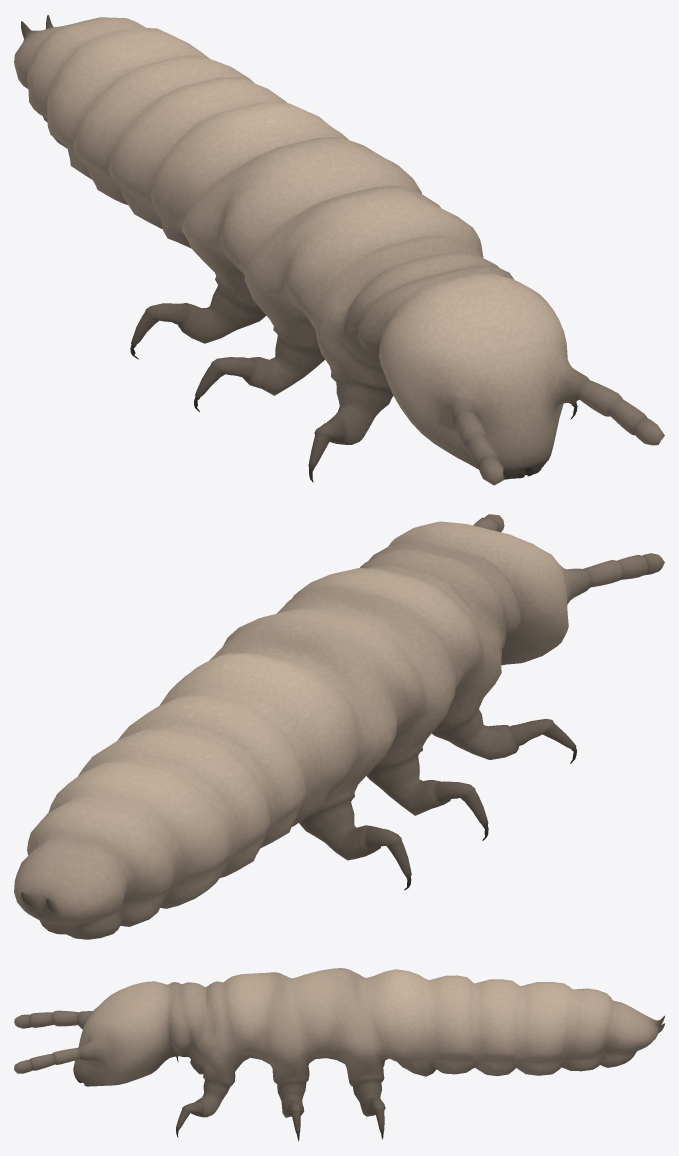
The model's file is Senckenberg_springtail.gltf.
3 views of the same model, one above another, from view 1: azimuth 30°, elevation 25°; view 2: azimuth 150°, elevation 25°; view 3: azimuth 270°, elevation 25° (orthographic). The views are drawn at different scales.
Visible parts, largest first — view 1: Mesaphorura_macrochaeta; view 2: Mesaphorura_macrochaeta; view 3: Mesaphorura_macrochaeta.
Part boxes in pixels (box(x1,y1,x2,y2)): Mesaphorura_macrochaeta: box(14, 15, 664, 485); Mesaphorura_macrochaeta: box(14, 514, 664, 939); Mesaphorura_macrochaeta: box(14, 968, 664, 1141).
Bounding box in the file's own units: 0.0234 × 0.0157 × 0.0748.
1 material, 1 textured.
